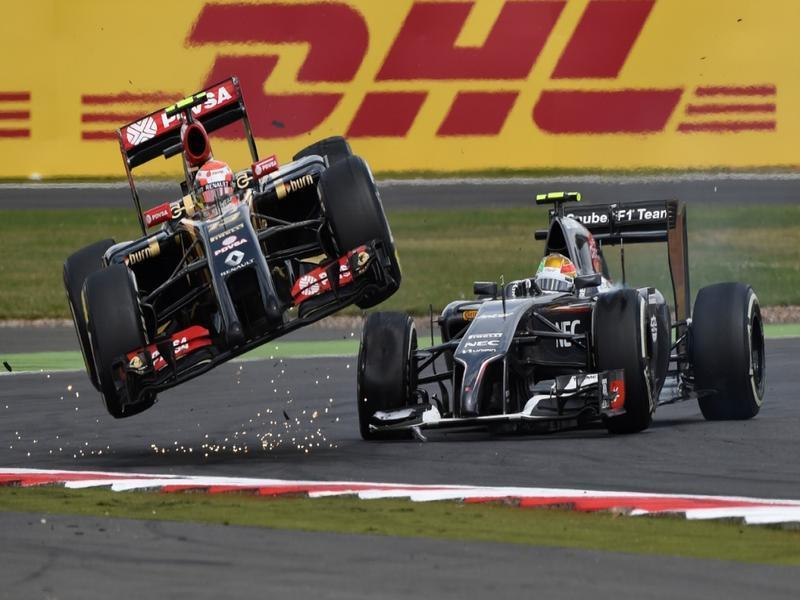f1: (329, 193, 772, 451), (51, 93, 405, 395)
